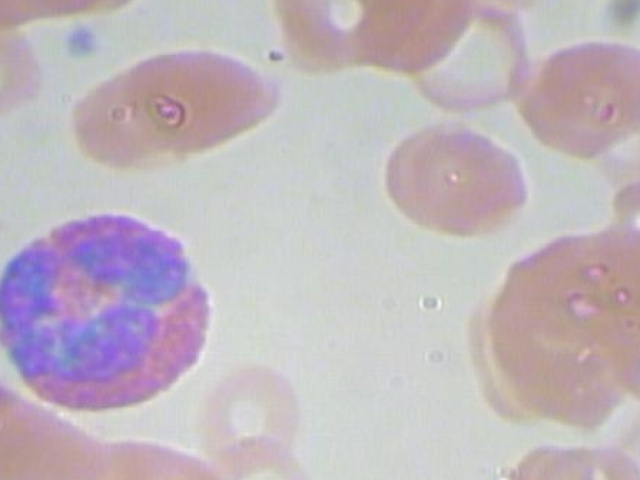Platelets: (51, 19, 105, 63)
RBC: (57, 66, 220, 191), (116, 37, 278, 162), (192, 353, 330, 480), (399, 115, 536, 240), (490, 226, 626, 351), (388, 0, 529, 113), (517, 37, 640, 162), (250, 0, 436, 74), (0, 376, 115, 480), (379, 111, 470, 235), (0, 14, 51, 141), (597, 200, 640, 331), (600, 287, 640, 424), (0, 0, 122, 15), (422, 0, 563, 8), (507, 0, 640, 8)
WBC: (0, 200, 232, 418)
